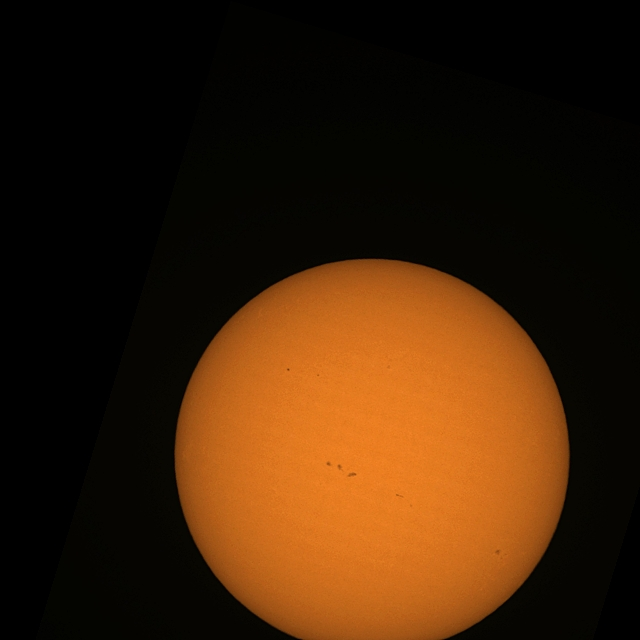sunspot: (394, 493, 414, 508), (337, 464, 356, 477), (326, 461, 345, 472), (494, 548, 508, 562), (347, 472, 357, 478), (336, 463, 343, 471), (396, 493, 404, 499), (326, 461, 331, 467), (286, 367, 290, 373), (409, 503, 413, 508)
